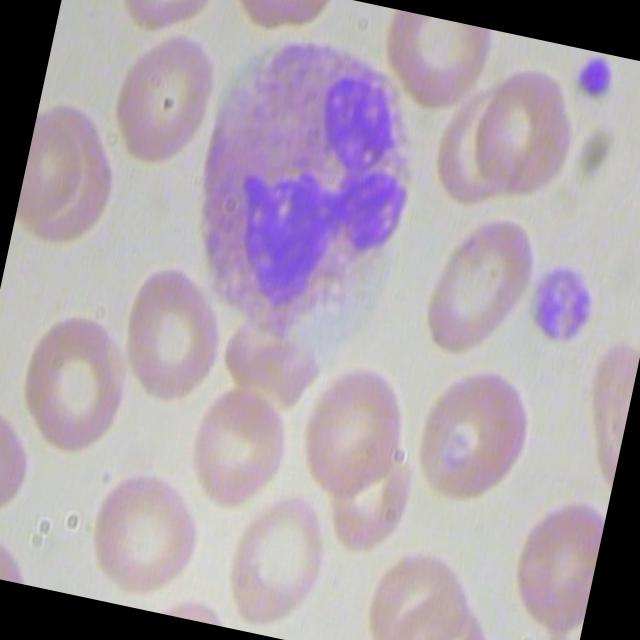Platelets: (518, 248, 616, 356), (568, 48, 624, 104)
RBC: (408, 198, 548, 365), (402, 356, 543, 521), (284, 342, 424, 506), (97, 18, 230, 182), (460, 46, 592, 210), (4, 300, 138, 459), (105, 248, 238, 407), (81, 447, 214, 606), (217, 477, 339, 640), (178, 370, 299, 514), (498, 485, 607, 640), (350, 529, 476, 640), (0, 388, 45, 528)
WBC: (156, 18, 444, 358)
